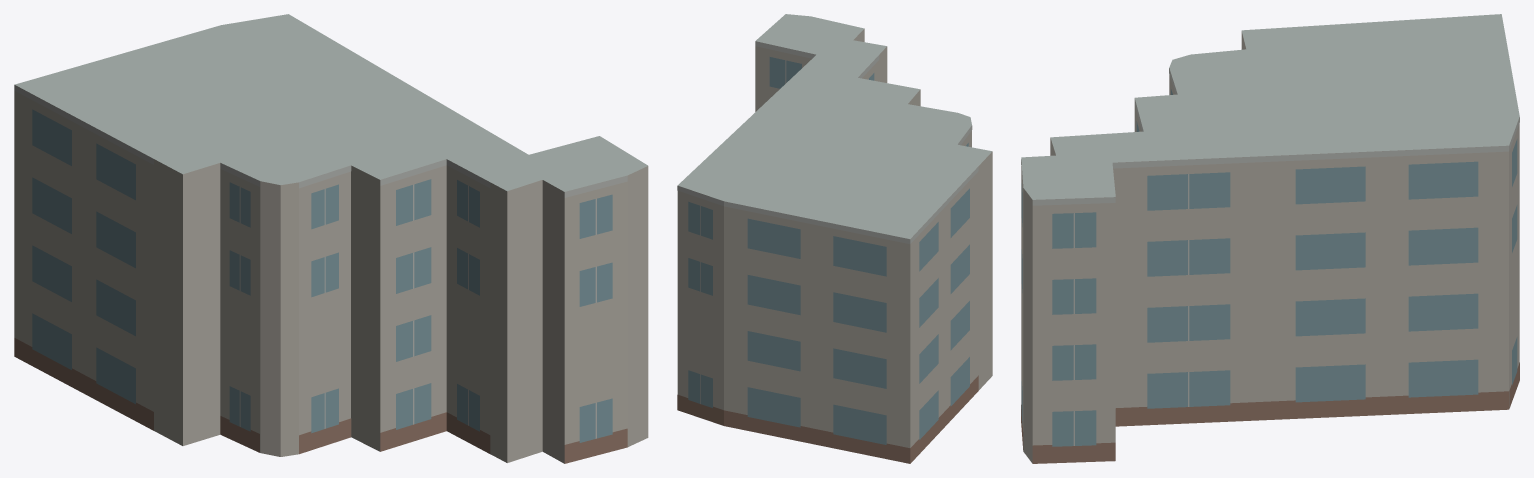
File: survey-upis-32496201.glb
The picture shows the model from 3 angles, left to right: view 1: azimuth 30°, elevation 25°; view 2: azimuth 150°, elevation 25°; view 3: azimuth 270°, elevation 25°; orthographic projection. The views are drawn at different scales.
Parts seen in each view (by area): view 1: survey-upis-32496201.tmp; view 2: survey-upis-32496201.tmp; view 3: survey-upis-32496201.tmp.
Boxes of the visible parts, x1=… form: survey-upis-32496201.tmp: x1=14, y1=14, x2=648, y2=463; survey-upis-32496201.tmp: x1=677, y1=14, x2=992, y2=463; survey-upis-32496201.tmp: x1=1021, y1=14, x2=1519, y2=463.
Bounding box in the file's own units: 16.47 × 10.9 × 18.67.
